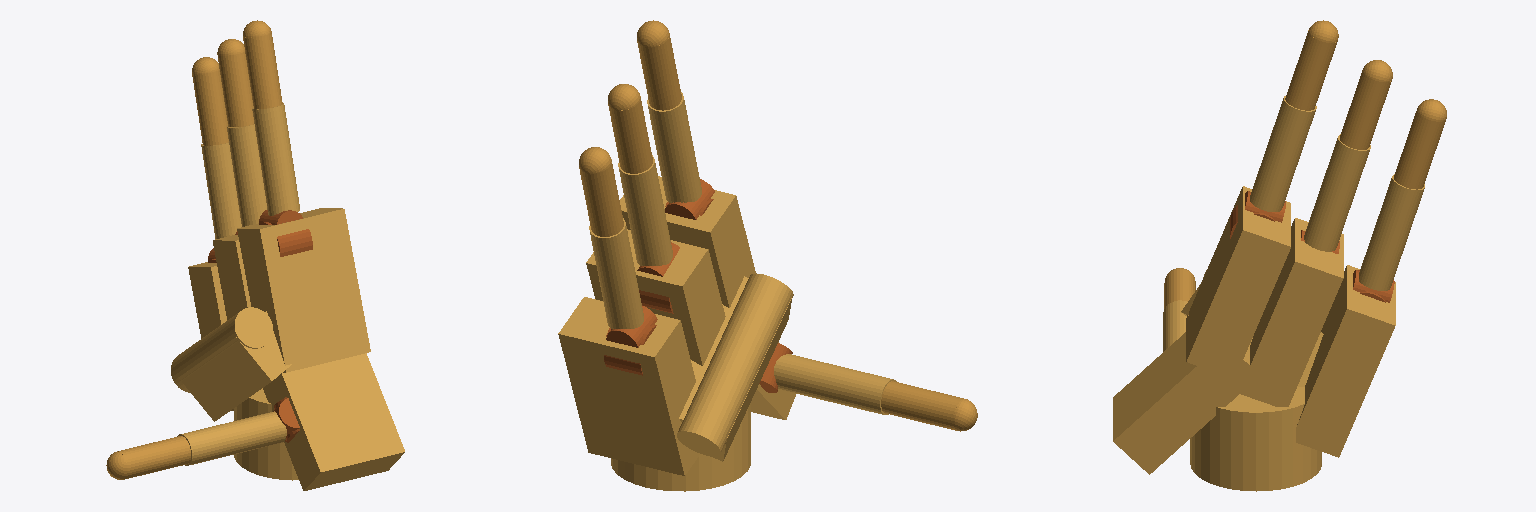
--- What the picture shows (computed from the rendered views, not written in the file) ---
3 views of the same robot in one strip: view 1: azimuth 30°, elevation 25°; view 2: azimuth 150°, elevation 25°; view 3: azimuth 270°, elevation 25° (orthographic).
Model sandia_hand_right with 41 links and 40 joints (12 revolute, 28 fixed), rooted at base, posed every joint at zero.
Links seen in each view (by area): view 1: right_palm, right_f0_1, right_f3_1, right_f1_1, right_f2_1, right_f0_2, right_f3_2, right_f2_2, right_f1_2, right_f0_0, right_f3_0; view 2: right_palm, right_f3_1, right_f2_1, right_f1_1, right_f0_1, right_f3_2, right_f1_2, right_f2_2, right_f0_2, right_f2_0, right_f0_0, right_f1_0 (+1 smaller); view 3: right_palm, right_f1_1, right_f2_1, right_f0_1, right_f1_2, right_f2_2, right_f0_2, right_f3_2, right_f3_1, right_f0_0.
Boxes of the visible links, x1=… form: right_palm: x1=171, y1=208, x2=404, y2=490; right_f0_1: x1=252, y1=102, x2=299, y2=215; right_f3_1: x1=177, y1=411, x2=286, y2=465; right_f1_1: x1=227, y1=124, x2=266, y2=226; right_f2_1: x1=201, y1=142, x2=241, y2=238; right_f0_2: x1=243, y1=20, x2=282, y2=108; right_f3_2: x1=106, y1=436, x2=190, y2=479; right_f2_2: x1=192, y1=57, x2=228, y2=145; right_f1_2: x1=217, y1=39, x2=253, y2=126; right_f0_0: x1=259, y1=210, x2=312, y2=256; right_f3_0: x1=273, y1=397, x2=299, y2=442; right_palm: x1=558, y1=176, x2=795, y2=491; right_f3_1: x1=774, y1=354, x2=896, y2=414; right_f2_1: x1=589, y1=218, x2=643, y2=328; right_f1_1: x1=618, y1=155, x2=672, y2=265; right_f0_1: x1=647, y1=92, x2=701, y2=202; right_f3_2: x1=881, y1=381, x2=977, y2=431; right_f1_2: x1=608, y1=84, x2=652, y2=173; right_f2_2: x1=579, y1=147, x2=623, y2=236; right_f0_2: x1=637, y1=20, x2=681, y2=110; right_f2_0: x1=604, y1=306, x2=657, y2=375; right_f0_0: x1=665, y1=179, x2=714, y2=219; right_f1_0: x1=637, y1=242, x2=679, y2=313; right_palm: x1=1113, y1=186, x2=1395, y2=491; right_f1_1: x1=1304, y1=134, x2=1370, y2=251; right_f2_1: x1=1359, y1=174, x2=1424, y2=290; right_f0_1: x1=1250, y1=96, x2=1316, y2=211; right_f1_2: x1=1340, y1=60, x2=1392, y2=149; right_f2_2: x1=1394, y1=99, x2=1446, y2=189; right_f0_2: x1=1285, y1=20, x2=1338, y2=110; right_f3_2: x1=1164, y1=268, x2=1195, y2=308; right_f3_1: x1=1163, y1=300, x2=1187, y2=351; right_f0_0: x1=1230, y1=191, x2=1285, y2=238.
Bounding box of the posed robot: 0.196 × 0.1924 × 0.2782 m (x, y, z).
Geometry: primitives only (box / cylinder / sphere), no mesh files.

The robot description file, URDF, robot "sandia_hand_right":
<?xml version="1.0" ?>
<!-- =================================================================================== -->
<!-- |    This document was autogenerated by xacro from sandia_hand_drake_right.urdf.xacro | -->
<!-- |    EDITING THIS FILE BY HAND IS NOT RECOMMENDED                                 | -->
<!-- =================================================================================== -->
<robot name="sandia_hand_right" xmlns:controller="http://playerstage.sourceforge.net/gazebo/xmlschema/#controller" xmlns:interface="http://playerstage.sourceforge.net/gazebo/xmlschema/#interface" xmlns:sensor="http://playerstage.sourceforge.net/gazebo/xmlschema/#sensor" xmlns:xacro="http://www.ros.org/wiki/xacro">
  <!--  derived from /usr/share/sandia-hand-5.1/ros/sandia_hand_description/robots/sandia_hand_right_on_box.urdf.xacro-->
  <!-- Commenting out urdf with meshes, using simple collision shapes instead -->
  <!--<include filename="$(find mit_drcsim_scripts)/models/mit_robot_hands/drake_urdfs/xacro/sandia_hand_drake.urdf.xacro" />-->
  <link name="base">
    <inertial>
      <mass value="0.001"/>
      <origin rpy="0 0 0" xyz="0 0 0.25"/>
      <inertia ixx="0.000001" ixy="0" ixz="0" iyy="0.000001" iyz="0" izz="0.000001"/>
    </inertial>
    <!--   <visual>
        <origin xyz="0 0 0.25" rpy="0 0 0" />
        <geometry>
            <box size="0.5 0.5 0.5" />
        </geometry>
    </visual>
    <collision>
        <origin xyz="0 0 0.25" rpy="0 0 0" />
        <geometry>
            <box size="0.5 0.5 0.5" />
        </geometry>
    </collision> -->
  </link>
  <link name="right_palm">
    <origin rpy="0 0 0" xyz="0 0 0"/>
    <inertial>
      <mass value="1.303"/>
      <origin xyz="0 0 0"/>
      <!-- solid sphere with 5cm radius -->
      <inertia ixx="0.001303" ixy="0" ixz="0" iyy="0.001303" iyz="0" izz="0.001303"/>
    </inertial>
    <!-- begin simple shape approximation of palm -->
    <!-- <collision group="default">
        <origin xyz="0.069 ${0.016 * reflect} 0.038" rpy="0 ${M_pi/2} ${-0.9 * reflect}"/>
        <geometry>
          <cylinder radius="0.013" length="0.100" />
        </geometry>
      </collision> -->
    <!-- <collision group="other">
        <origin xyz="0.064 ${0.008 * reflect} 0.021" rpy="0.41 0 ${-0.9 * reflect}"/>
        <geometry>
          <box size="0.09 .035 .05" />
        </geometry>
      </collision> -->
    <!-- <collision group="other">
        <origin xyz="0.02 0 -0.005" rpy="0 ${M_pi/2} 0"/>
        <geometry>
          <cylinder radius="0.038" length="0.05" />
        </geometry>
      </collision> -->
    <!-- <collision group="other">
        <origin xyz="0.11 ${-0.01*reflect} -0.005" rpy="0 0 ${0.37*reflect}"/>
        <geometry>
          <box size="0.09 .03 .06" />
        </geometry>
      </collision> -->
    <!-- <collision group="other">
        <origin xyz="0.09 ${0.02*reflect} -0.005" rpy="0 0 ${0.37*reflect}"/>
        <geometry>
          <box size="0.09 .03 .06" />
        </geometry>
      </collision> -->
    <!--<collision group="other">
        <origin xyz="0.060 ${0.050*reflect} -0.005" rpy="0 0 ${0.37*reflect}"/>
        <geometry>
          <box size="0.09 .03 .06" />
        </geometry>
      </collision> -->
    <!-- <collision group="other">
        <origin xyz="0.044 ${-0.04*reflect} -0.005" rpy="0 0 ${0.79*reflect}"/>
        <geometry>
          <box size="0.09 .03 .06" />
        </geometry>
      </collision>-->
    <!--   end simple shape approximation of palm -->
    <!-- begin visual shape approximation of palm -->
    <visual>
      <origin rpy="0 1.57079632679 -0.9" xyz="0.069 0.016 0.038"/>
      <geometry>
        <cylinder length="0.100" radius="0.013"/>
      </geometry>
      <material name="right_sandia_hand_skin">
        <color rgba="0.835 0.655 0.345 1.0"/>
      </material>
    </visual>
    <visual>
      <origin rpy="0.41 0 -0.9" xyz="0.064 0.008 0.021"/>
      <geometry>
        <box size="0.09 .035 .05"/>
      </geometry>
      <material name="right_sandia_hand_skin">
        <color rgba="0.835 0.655 0.345 1.0"/>
      </material>
    </visual>
    <visual>
      <origin rpy="0 1.57079632679 0" xyz="0.02 0 -0.005"/>
      <geometry>
        <cylinder length="0.05" radius="0.038"/>
      </geometry>
      <material name="right_sandia_hand_skin">
        <color rgba="0.835 0.655 0.345 1.0"/>
      </material>
    </visual>
    <visual>
      <origin rpy="0 0 0.37" xyz="0.11 -0.01 -0.005"/>
      <geometry>
        <box size="0.09 .03 .06"/>
      </geometry>
      <material name="right_sandia_hand_skin">
        <color rgba="0.835 0.655 0.345 1.0"/>
      </material>
    </visual>
    <visual>
      <origin rpy="0 0 0.37" xyz="0.09 0.02 -0.005"/>
      <geometry>
        <box size="0.09 .03 .06"/>
      </geometry>
      <material name="right_sandia_hand_skin">
        <color rgba="0.835 0.655 0.345 1.0"/>
      </material>
    </visual>
    <visual>
      <origin rpy="0 0 0.37" xyz="0.060 0.05 -0.005"/>
      <geometry>
        <box size="0.09 .03 .06"/>
      </geometry>
      <material name="right_sandia_hand_skin">
        <color rgba="0.835 0.655 0.345 1.0"/>
      </material>
    </visual>
    <visual>
      <origin rpy="0 0 0.79" xyz="0.044 -0.04 -0.005"/>
      <geometry>
        <box size="0.09 .03 .06"/>
      </geometry>
      <material name="right_sandia_hand_skin">
        <color rgba="0.835 0.655 0.345 1.0"/>
      </material>
    </visual>
    <!--   end visual shape approximation of palm -->
    <!-- begin collision mesh of f2 ->
      <collision group="default">
        <origin xyz="0 0 0" rpy="0 0 0"/>
        <geometry>
          <mesh filename="package://sandia_hand_description/meshes/palm.stl"/>
        </geometry>
      </collision>
      <!-   end collision mesh of f2 -->
    <!-- begin visual mesh of f2    ->
      <visual>
        <origin xyz="0 0 0" rpy="0 0 0"/>
        <geometry>
          <mesh filename="package://sandia_hand_description/meshes/palm.stl"/>
        </geometry>
        <material name="${side}_sandia_hand_skin">
          <color rgba="0.835 0.655 0.345 1.0"/>
        </material>
      </visual>
      <!-   end visual mesh of f2 -->
  </link>
  <joint name="right_sandia_hand_joint" type="fixed">
    <parent link="base"/>
    <child link="right_palm"/>
    <origin rpy="0 -1.57079 0" xyz="0 0 0.0"/>
  </joint>
  <link name="right_f0_base">
    <origin rpy="0 0 0" xyz="0 0 0"/>
    <inertial>
      <!-- total mass is 2.303 kg, palm is about 1.303 kg, distribute the rest into _base -->
      <mass value="0.250"/>
      <!-- (2.303 - 1.303) / 4 -->
      <origin xyz="0 0 0"/>
      <!-- model as sphere with radius of 1cm -->
      <inertia ixx="0.00001" ixy="0" ixz="0" iyy="0.00001" iyz="0" izz="0.00001"/>
    </inertial>
  </link>
  <link name="right_f0_fixed_accel">
    <origin rpy="0 0 0" xyz="0 0 0"/>
    <inertial>
      <mass value="0.01"/>
      <origin xyz="0 0 0"/>
      <inertia ixx="0.000001" ixy="0" ixz="0" iyy="0.000001" iyz="0" izz="0.000001"/>
    </inertial>
    <!-- ############ MIT ADDITION ############ -->
    <collision>
      <origin rpy="0 0 0" xyz="0 0 0.05"/>
      <geometry>
        <sphere radius="0"/>
      </geometry>
    </collision>
    <!-- ############    END     ############ -->
  </link>
  <link name="right_f0_0">
    <origin rpy="0 0 0" xyz="0 0 0"/>
    <inertial>
      <mass value="0.106"/>
      <!-- F1 -->
      <origin xyz="0 0 0"/>
      <!-- solid cylinder -->
      <inertia ixx="0.000011925" ixy="0" ixz="0" iyy="0.00011505" iyz="0" izz="0.00011505"/>
    </inertial>
    <!-- begin simple shape approximation of f0 -->
    <!-- <collision group="default">
        <origin xyz="0 0 0.003" rpy="0 0 0"/>
        <geometry>
          <cylinder radius="0.015" length="0.023" />
        </geometry>
      </collision> -->
    <!-- <collision group="other">
        <origin xyz="0.011 0 0.003" rpy="${M_pi/2} 0 0"/>
        <geometry>
          <cylinder radius="0.01" length="0.023" />
        </geometry>
      </collision> -->
    <!--   end simple shape approximation of f0 -->
    <!-- begin visual shape approximation of f0 -->
    <visual>
      <origin rpy="0 0 0" xyz="0 0 0.003"/>
      <geometry>
        <cylinder length="0.023" radius="0.015"/>
      </geometry>
      <material name="right_sandia_hand_skin_suntan">
        <color rgba="0.7 0.4 0.2 1.0"/>
      </material>
    </visual>
    <visual>
      <origin rpy="1.57079632679 0 0" xyz="0.011 0 0.003"/>
      <geometry>
        <cylinder length="0.023" radius="0.01"/>
      </geometry>
      <material name="right_sandia_hand_skin_suntan">
        <color rgba="0.7 0.4 0.2 1.0"/>
      </material>
    </visual>
    <!--   end visual shape approximation of f0 -->
    <!-- begin collision mesh of f0 ->
      <collision group="default">
        <origin xyz="0 0 0" rpy="0 0 0"/>
        <geometry>
          <mesh filename="package://sandia_hand_description/meshes/f0.stl"/>
        </geometry>
      </collision>
      <!-   end collision mesh of f0 -->
    <!-- begin visual mesh of f0 ->
      <visual>
        <origin xyz="0 0 0" rpy="0 0 0"/>
        <geometry>
          <mesh filename="package://sandia_hand_description/meshes/f0.stl"/>
        </geometry>
        <material name="${side}_sandia_hand_skin_suntan">
          <color rgba="0.7 0.4 0.2 1.0"/>
        </material>
      </visual>
      <!-   end visual mesh of f0 -->
  </link>
  <link name="right_f0_1">
    <origin rpy="0 0 0" xyz="0 0 0"/>
    <inertial>
      <mass value="0.033"/>
      <!-- F2 -->
      <origin xyz="0 0 0"/>
      <!-- solid cylinder -->
      <inertia ixx="0.00000165" ixy="0" ixz="0" iyy="0.00001316975" iyz="0" izz="0.00001316975"/>
    </inertial>
    <!-- begin simple shape approximation of f1 -->
    <!-- <collision group="default">
        <origin xyz="0.024 0 0" rpy="0 ${M_pi/2} 0"/>
        <geometry>
          <cylinder radius="0.01" length="0.067" />
        </geometry>
      </collision> -->
    <!--   end simple shape approximation of f1 -->
    <!-- begin visual shape approximation of f1 -->
    <visual>
      <origin rpy="0 1.57079632679 0" xyz="0.024 0 0"/>
      <geometry>
        <cylinder length="0.067" radius="0.01"/>
      </geometry>
      <material name="right_sandia_hand_skin">
        <color rgba="0.835 0.655 0.345 1.0"/>
      </material>
    </visual>
    <!--   end visual shape approximation of f1 -->
    <!-- begin collision mesh of f1 ->
      <collision group="default">
        <origin xyz="0 0 0" rpy="0 0 0"/>
        <geometry>
          <mesh filename="package://sandia_hand_description/meshes/f1.stl"/>
        </geometry>
      </collision>
      <!-   end collision mesh of f1 -->
    <!-- begin visual mesh of f1 ->
      <visual>
        <origin xyz="0 0 0" rpy="0 0 0"/>
        <geometry>
          <mesh filename="package://sandia_hand_description/meshes/f1.stl"/>
        </geometry>
        <material name="${side}_sandia_hand_skin">
          <color rgba="0.835 0.655 0.345 1.0"/>
        </material>
      </visual>
      <!-   end visual mesh of f1 -->
  </link>
  <link name="right_f0_1_accel">
    <origin rpy="0 0 0" xyz="0 0 0"/>
    <inertial>
      <mass value="0.01"/>
      <origin xyz="0 0 0"/>
      <inertia ixx="0.000001" ixy="0" ixz="0" iyy="0.000001" iyz="0" izz="0.000001"/>
    </inertial>
    <!-- ############ MIT ADDITION ############ -->
    <!--      <collision>-->
    <!--        <origin rpy="0 0 0" xyz="0 0 0.01"/>-->
    <!--        <geometry>-->
    <!--          <sphere radius="0"/>-->
    <!--        </geometry>-->
    <!--      </collision>  -->
    <!-- ############    END     ############ -->
  </link>
  <link name="right_f0_2">
    <origin rpy="0 0 0" xyz="0 0 0"/>
    <inertial>
      <mass value="0.033"/>
      <!-- F3 -->
      <origin xyz="0 0 0"/>
      <!-- solid cylinder -->
      <inertia ixx="0.0000013365" ixy="0" ixz="0" iyy="0.000009603" iyz="0" izz="0.000009603"/>
    </inertial>
    <!-- begin simple shape approximation of f2 -->
    <!-- <collision group="default">
        <origin xyz="0.024 0 0" rpy="0 ${M_pi/2} 0"/>
        <geometry>
          <cylinder radius="0.009" length="0.057" />
        </geometry>
      </collision> -->
    <!-- <collision group="other">
        <origin xyz="0.052 0 0" rpy="0 0 0"/>
        <geometry>
          <sphere radius="0.009" />
        </geometry>
      </collision> -->
    <!--   end simple shape approximation of f2 -->
    <!-- begin visual shape approximation of f2 -->
    <visual>
      <origin rpy="0 1.57079632679 0" xyz="0.024 0 0"/>
      <geometry>
        <cylinder length="0.057" radius="0.009"/>
      </geometry>
      <material name="right_sandia_hand_skin_suntan">
        <color rgba="0.8 0.6 0.3 1.0"/>
      </material>
    </visual>
    <visual>
      <origin rpy="0 0 0" xyz="0.052 0 0"/>
      <geometry>
        <sphere radius="0.009"/>
      </geometry>
      <material name="right_sandia_hand_skin_suntan">
        <color rgba="0.8 0.6 0.3 1.0"/>
      </material>
    </visual>
    <!-- begin collision mesh of f2    ->
      <collision group="default">
        <origin xyz="0 0 0" rpy="0 0 0"/>
        <geometry>
          <mesh filename="package://sandia_hand_description/meshes/f2.stl"/>
        </geometry>
      </collision>
      <!-   end collision mesh of f2 -->
    <!-- begin visual mesh of f2    ->
      <visual>
        <origin xyz="0 0 0" rpy="0 0 0"/>
        <geometry>
          <mesh filename="package://sandia_hand_description/meshes/f2.stl"/>
        </geometry>
        <material name="${side}_sandia_hand_skin_suntan">
          <color rgba="0.8 0.6 0.3 1.0"/>
        </material>
      </visual>
      <!-   end visual mesh of f2 -->
  </link>
  <link name="right_f0_2_accel">
    <origin rpy="0 0 0" xyz="0 0 0"/>
    <inertial>
      <mass value="0.01"/>
      <origin xyz="0 0 0"/>
      <inertia ixx="0.000001" ixy="0" ixz="0" iyy="0.000001" iyz="0" izz="0.000001"/>
    </inertial>
    <!-- ############ MIT ADDITION ############ -->
    <collision>
      <origin rpy="0 0 0" xyz="0 0 0.01"/>
      <geometry>
        <sphere radius="0"/>
      </geometry>
    </collision>
    <!-- ############    END     ############ -->
  </link>
  <link name="right_f0_2_accel_dummy1">
    <origin rpy="0 0 0" xyz="0 0 0"/>
    <inertial>
      <mass value="0.001"/>
      <origin xyz="0 0 0"/>
      <inertia ixx="0.01" ixy="0" ixz="0" iyy="0.01" iyz="0" izz="0.01"/>
    </inertial>
    <collision>
      <origin rpy="0 0 0" xyz="-0.02 0.0 0.01"/>
      <geometry>
        <sphere radius="0"/>
      </geometry>
    </collision>
  </link>
  <joint name="right_f0_2_accel_dummy1" type="fixed">
    <parent link="right_f0_2"/>
    <child link="right_f0_2_accel_dummy1"/>
    <origin rpy="-1.57079632679 0 0" xyz="0.04 0 0"/>
  </joint>
  <link name="right_f0_2_accel_dummy2">
    <origin rpy="0 0 0" xyz="0 0 0"/>
    <inertial>
      <mass value="0.001"/>
      <origin xyz="0 0 0"/>
      <inertia ixx="0.01" ixy="0" ixz="0" iyy="0.01" iyz="0" izz="0.01"/>
    </inertial>
    <collision>
      <origin rpy="0 0 0" xyz="0.0 0.0 -0.01"/>
      <geometry>
        <sphere radius="0"/>
      </geometry>
    </collision>
  </link>
  <joint name="right_f0_2_accel_dummy2" type="fixed">
    <parent link="right_f0_2"/>
    <child link="right_f0_2_accel_dummy2"/>
    <origin rpy="-1.57079632679 0 0" xyz="0.04 0 0"/>
  </joint>
  <joint name="right_f0_base" type="fixed">
    <parent link="right_palm"/>
    <child link="right_f0_base"/>
    <origin rpy="0 0 0.3" xyz="0.14 0.0 0"/>
  </joint>
  <joint name="right_f0_j1" type="revolute">
    <axis xyz="0 0 1"/>
    <parent link="right_f0_0"/>
    <child link="right_f0_1"/>
    <limit effort="1" lower="-1.57079632679" upper="1.57079632679" velocity="1"/>
    <safety_controller k_position="1000.0" k_velocity="1000.0" soft_lower_limit="-11.57079" soft_upper_limit="11.57079"/>
    <dynamics damping="0.2"/>
    <origin rpy="1.57079632679 0 0" xyz="0.028 0 0"/>
  </joint>
  <joint name="right_f0_j2" type="revolute">
    <axis xyz="0 0 1"/>
    <parent link="right_f0_1"/>
    <child link="right_f0_2"/>
    <origin rpy="0 0 0" xyz="0.05 0 0"/>
    <safety_controller k_position="1000.0" k_velocity="1000.0" soft_lower_limit="-11.57079" soft_upper_limit="11.57079"/>
    <dynamics damping="0.2"/>
    <limit effort="1" lower="-1.57079632679" upper="1.57079632679" velocity="1"/>
  </joint>
  <joint name="right_f0_fixed_accel" type="fixed">
    <parent link="right_f0_base"/>
    <child link="right_f0_fixed_accel"/>
    <origin rpy="0 0 0" xyz="-0.05 0 0"/>
  </joint>
  <joint name="right_f0_1_accel" type="fixed">
    <parent link="right_f0_1"/>
    <child link="right_f0_1_accel"/>
    <origin rpy="-1.57079632679 0 0" xyz="0.03 0 0"/>
  </joint>
  <joint name="right_f0_2_accel" type="fixed">
    <parent link="right_f0_2"/>
    <child link="right_f0_2_accel"/>
    <origin rpy="-1.57079632679 0 0" xyz="0.04 0 0"/>
  </joint>
  <link name="right_f0_knuckle_dummy_contact">
    <origin rpy="0 0 0" xyz="0 0 0"/>
    <inertial>
      <mass value="0.001"/>
      <origin xyz="0 0 0"/>
      <inertia ixx="0.001" ixy="0" ixz="0" iyy="0.001" iyz="0" izz="0.001"/>
    </inertial>
    <collision>
      <origin rpy="0 0 0" xyz="0.058 0 0.034"/>
      <!--TODO: THERE IS A ERROR HERE: xyz needs to be "0.058 0 0.034" instead of "0.1 0 0.05"-->
      <geometry>
        <sphere radius="0"/>
      </geometry>
    </collision>
  </link>
  <joint name="right_f0_knuckle_dummy_contact" type="fixed">
    <parent link="right_f0_base"/>
    <child link="right_f0_knuckle_dummy_contact"/>
    <origin rpy="0 0 0" xyz="-0.05 0 0"/>
  </joint>
  <transmission name="right_f0_j0" type="pr2_mechanism_model/SimpleTransmission">
    <joint name="right_f0_j0"/>
    <actuator name="right_f0_j0_motor"/>
    <mechanicalReduction>1</mechanicalReduction>
  </transmission>
  <transmission name="right_f0_j1" type="pr2_mechanism_model/SimpleTransmission">
    <joint name="right_f0_j1"/>
    <actuator name="right_f0_j1_motor"/>
    <mechanicalReduction>1</mechanicalReduction>
  </transmission>
  <transmission name="right_f0_j2" type="pr2_mechanism_model/SimpleTransmission">
    <joint name="right_f0_j2"/>
    <actuator name="right_f0_j2_motor"/>
    <mechanicalReduction>1</mechanicalReduction>
  </transmission>
  <link name="right_f1_base">
    <origin rpy="0 0 0" xyz="0 0 0"/>
    <inertial>
      <!-- total mass is 2.303 kg, palm is about 1.303 kg, distribute the rest into _base -->
      <mass value="0.250"/>
      <!-- (2.303 - 1.303) / 4 -->
      <origin xyz="0 0 0"/>
      <!-- model as sphere with radius of 1cm -->
      <inertia ixx="0.00001" ixy="0" ixz="0" iyy="0.00001" iyz="0" izz="0.00001"/>
    </inertial>
  </link>
  <link name="right_f1_fixed_accel">
    <origin rpy="0 0 0" xyz="0 0 0"/>
    <inertial>
      <mass value="0.01"/>
      <origin xyz="0 0 0"/>
      <inertia ixx="0.000001" ixy="0" ixz="0" iyy="0.000001" iyz="0" izz="0.000001"/>
    </inertial>
    <!-- ############ MIT ADDITION ############ -->
    <collision>
      <origin rpy="0 0 0" xyz="0 0 0.05"/>
      <geometry>
        <sphere radius="0"/>
      </geometry>
    </collision>
    <!-- ############    END     ############ -->
  </link>
  <link name="right_f1_0">
    <origin rpy="0 0 0" xyz="0 0 0"/>
    <inertial>
      <mass value="0.106"/>
      <!-- F1 -->
      <origin xyz="0 0 0"/>
      <!-- solid cylinder -->
      <inertia ixx="0.000011925" ixy="0" ixz="0" iyy="0.00011505" iyz="0" izz="0.00011505"/>
    </inertial>
    <!-- begin simple shape approximation of f0 -->
    <!-- <collision group="default">
        <origin xyz="0 0 0.003" rpy="0 0 0"/>
        <geometry>
          <cylinder radius="0.015" length="0.023" />
        </geometry>
      </collision> -->
    <!-- <collision group="other">
        <origin xyz="0.011 0 0.003" rpy="${M_pi/2} 0 0"/>
        <geometry>
          <cylinder radius="0.01" length="0.023" />
        </geometry>
      </collision> -->
    <!--   end simple shape approximation of f0 -->
    <!-- begin visual shape approximation of f0 -->
    <visual>
      <origin rpy="0 0 0" xyz="0 0 0.003"/>
      <geometry>
        <cylinder length="0.023" radius="0.015"/>
      </geometry>
      <material name="right_sandia_hand_skin_suntan">
        <color rgba="0.7 0.4 0.2 1.0"/>
      </material>
    </visual>
    <visual>
      <origin rpy="1.57079632679 0 0" xyz="0.011 0 0.003"/>
      <geometry>
        <cylinder length="0.023" radius="0.01"/>
      </geometry>
      <material name="right_sandia_hand_skin_suntan">
        <color rgba="0.7 0.4 0.2 1.0"/>
      </material>
    </visual>
    <!--   end visual shape approximation of f0 -->
    <!-- begin collision mesh of f0 ->
      <collision group="default">
        <origin xyz="0 0 0" rpy="0 0 0"/>
        <geometry>
          <mesh filename="package://sandia_hand_description/meshes/f0.stl"/>
        </geometry>
      </collision>
      <!-   end collision mesh of f0 -->
    <!-- begin visual mesh of f0 ->
      <visual>
        <origin xyz="0 0 0" rpy="0 0 0"/>
        <geometry>
          <mesh filename="package://sandia_hand_description/meshes/f0.stl"/>
        </geometry>
        <material name="${side}_sandia_hand_skin_suntan">
          <color rgba="0.7 0.4 0.2 1.0"/>
        </material>
      </visual>
      <!-   end visual mesh of f0 -->
  </link>
  <link name="right_f1_1">
    <origin rpy="0 0 0" xyz="0 0 0"/>
    <inertial>
      <mass value="0.033"/>
      <!-- F2 -->
      <origin xyz="0 0 0"/>
      <!-- solid cylinder -->
      <inertia ixx="0.00000165" ixy="0" ixz="0" iyy="0.00001316975" iyz="0" izz="0.00001316975"/>
    </inertial>
    <!-- begin simple shape approximation of f1 -->
    <!-- <collision group="default">
        <origin xyz="0.024 0 0" rpy="0 ${M_pi/2} 0"/>
        <geometry>
          <cylinder radius="0.01" length="0.067" />
        </geometry>
      </collision> -->
    <!--   end simple shape approximation of f1 -->
    <!-- begin visual shape approximation of f1 -->
    <visual>
      <origin rpy="0 1.57079632679 0" xyz="0.024 0 0"/>
      <geometry>
        <cylinder length="0.067" radius="0.01"/>
      </geometry>
      <material name="right_sandia_hand_skin">
        <color rgba="0.835 0.655 0.345 1.0"/>
      </material>
    </visual>
    <!--   end visual shape approximation of f1 -->
    <!-- begin collision mesh of f1 ->
      <collision group="default">
        <origin xyz="0 0 0" rpy="0 0 0"/>
        <geometry>
          <mesh filename="package://sandia_hand_description/meshes/f1.stl"/>
        </geometry>
      </collision>
      <!-   end collision mesh of f1 -->
    <!-- begin visual mesh of f1 ->
      <visual>
        <origin xyz="0 0 0" rpy="0 0 0"/>
        <geometry>
          <mesh filename="package://sandia_hand_description/meshes/f1.stl"/>
        </geometry>
        <material name="${side}_sandia_hand_skin">
          <color rgba="0.835 0.655 0.345 1.0"/>
        </material>
      </visual>
      <!-   end visual mesh of f1 -->
  </link>
  <link name="right_f1_1_accel">
    <origin rpy="0 0 0" xyz="0 0 0"/>
    <inertial>
      <mass value="0.01"/>
      <origin xyz="0 0 0"/>
      <inertia ixx="0.000001" ixy="0" ixz="0" iyy="0.000001" iyz="0" izz="0.000001"/>
    </inertial>
    <!-- ############ MIT ADDITION ############ -->
    <!--      <collision>-->
    <!--        <origin rpy="0 0 0" xyz="0 0 0.01"/>-->
    <!--        <geometry>-->
    <!--          <sphere radius="0"/>-->
    <!--        </geometry>-->
    <!--      </collision>  -->
    <!-- ############    END     ############ -->
  </link>
  <link name="right_f1_2">
    <origin rpy="0 0 0" xyz="0 0 0"/>
    <inertial>
      <mass value="0.033"/>
      <!-- F3 -->
      <origin xyz="0 0 0"/>
      <!-- solid cylinder -->
      <inertia ixx="0.0000013365" ixy="0" ixz="0" iyy="0.000009603" iyz="0" izz="0.000009603"/>
    </inertial>
    <!-- begin simple shape approximation of f2 -->
    <!-- <collision group="default">
        <origin xyz="0.024 0 0" rpy="0 ${M_pi/2} 0"/>
        <geometry>
          <cylinder radius="0.009" length="0.057" />
        </geometry>
      </collision> -->
    <!-- <collision group="other">
        <origin xyz="0.052 0 0" rpy="0 0 0"/>
        <geometry>
          <sphere radius="0.009" />
        </geometry>
      </collision> -->
    <!--   end simple shape approximation of f2 -->
    <!-- begin visual shape approximation of f2 -->
    <visual>
      <origin rpy="0 1.57079632679 0" xyz="0.024 0 0"/>
      <geometry>
        <cylinder length="0.057" radius="0.009"/>
      </geometry>
      <material name="right_sandia_hand_skin_suntan">
        <color rgba="0.8 0.6 0.3 1.0"/>
      </material>
    </visual>
    <visual>
      <origin rpy="0 0 0" xyz="0.052 0 0"/>
      <geometry>
        <sphere radius="0.009"/>
      </geometry>
      <material name="right_sandia_hand_skin_suntan">
        <color rgba="0.8 0.6 0.3 1.0"/>
      </material>
    </visual>
    <!-- begin collision mesh of f2    ->
      <collision group="default">
        <origin xyz="0 0 0" rpy="0 0 0"/>
        <geometry>
          <mesh filename="package://sandia_hand_description/meshes/f2.stl"/>
        </geometry>
      </collision>
      <!-   end collision mesh of f2 -->
    <!-- begin visual mesh of f2    ->
      <visual>
        <origin xyz="0 0 0" rpy="0 0 0"/>
        <geometry>
          <mesh filename="package://sandia_hand_description/meshes/f2.stl"/>
        </geometry>
        <material name="${side}_sandia_hand_skin_suntan">
          <color rgba="0.8 0.6 0.3 1.0"/>
        </material>
      </visual>
      <!-   end visual mesh of f2 -->
  </link>
  <link name="right_f1_2_accel">
    <origin rpy="0 0 0" xyz="0 0 0"/>
    <inertial>
      <mass value="0.01"/>
      <origin xyz="0 0 0"/>
      <inertia ixx="0.000001" ixy="0" ixz="0" iyy="0.000001" iyz="0" izz="0.000001"/>
    </inertial>
    <!-- ############ MIT ADDITION ############ -->
    <collision>
      <origin rpy="0 0 0" xyz="0 0 0.01"/>
      <geometry>
        <sphere radius="0"/>
      </geometry>
    </collision>
    <!-- ############    END     ############ -->
  </link>
  <link name="right_f1_2_accel_dummy1">
    <origin rpy="0 0 0" xyz="0 0 0"/>
    <inertial>
      <mass value="0.001"/>
      <origin xyz="0 0 0"/>
      <inertia ixx="0.01" ixy="0" ixz="0" iyy="0.01" iyz="0" izz="0.01"/>
    </inertial>
    <collision>
      <origin rpy="0 0 0" xyz="-0.02 0.0 0.01"/>
      <geometry>
        <sphere radius="0"/>
      </geometry>
    </collision>
  </link>
  <joint name="right_f1_2_accel_dummy1" type="fixed">
    <parent link="right_f1_2"/>
    <child link="right_f1_2_accel_dummy1"/>
    <origin rpy="-1.57079632679 0 0" xyz="0.04 0 0"/>
  </joint>
  <link name="right_f1_2_accel_dummy2">
    <origin rpy="0 0 0" xyz="0 0 0"/>
    <inertial>
      <mass value="0.001"/>
      <origin xyz="0 0 0"/>
      <inertia ixx="0.01" ixy="0" ixz="0" iyy="0.01" iyz="0" izz="0.01"/>
    </inertial>
    <collision>
      <origin rpy="0 0 0" xyz="0.0 0.0 -0.01"/>
      <geometry>
        <sphere radius="0"/>
      </geometry>
    </collision>
  </link>
  <joint name="right_f1_2_accel_dummy2" type="fixed">
    <parent link="right_f1_2"/>
    <child link="right_f1_2_accel_dummy2"/>
    <origin rpy="-1.57079632679 0 0" xyz="0.04 0 0"/>
  </joint>
  <joint name="right_f1_base" type="fixed">
    <parent link="right_palm"/>
    <child link="right_f1_base"/>
    <origin rpy="0 0 0.3" xyz="0.115 0.03122 0"/>
  </joint>
  <joint name="right_f1_j1" type="revolute">
    <axis xyz="0 0 1"/>
    <parent link="right_f1_0"/>
    <child link="right_f1_1"/>
    <limit effort="1" lower="-1.57079632679" upper="1.57079632679" velocity="1"/>
    <safety_controller k_position="1000.0" k_velocity="1000.0" soft_lower_limit="-11.57079" soft_upper_limit="11.57079"/>
    <dynamics damping="0.2"/>
    <origin rpy="1.57079632679 0 0" xyz="0.028 0 0"/>
  </joint>
  <joint name="right_f1_j2" type="revolute">
    <axis xyz="0 0 1"/>
    <parent link="right_f1_1"/>
    <child link="right_f1_2"/>
    <origin rpy="0 0 0" xyz="0.05 0 0"/>
    <safety_controller k_position="1000.0" k_velocity="1000.0" soft_lower_limit="-11.57079" soft_upper_limit="11.57079"/>
    <dynamics damping="0.2"/>
    <limit effort="1" lower="-1.57079632679" upper="1.57079632679" velocity="1"/>
  </joint>
  <joint name="right_f1_fixed_accel" type="fixed">
    <parent link="right_f1_base"/>
    <child link="right_f1_fixed_accel"/>
    <origin rpy="0 0 0" xyz="-0.05 0 0"/>
  </joint>
  <joint name="right_f1_1_accel" type="fixed">
    <parent link="right_f1_1"/>
    <child link="right_f1_1_accel"/>
    <origin rpy="-1.57079632679 0 0" xyz="0.03 0 0"/>
  </joint>
  <joint name="right_f1_2_accel" type="fixed">
    <parent link="right_f1_2"/>
    <child link="right_f1_2_accel"/>
    <origin rpy="-1.57079632679 0 0" xyz="0.04 0 0"/>
  </joint>
  <link name="right_f1_knuckle_dummy_contact">
    <origin rpy="0 0 0" xyz="0 0 0"/>
    <inertial>
      <mass value="0.001"/>
      <origin xyz="0 0 0"/>
      <inertia ixx="0.001" ixy="0" ixz="0" iyy="0.001" iyz="0" izz="0.001"/>
    </inertial>
    <collision>
      <origin rpy="0 0 0" xyz="0.058 0 0.034"/>
      <!--TODO: THERE IS A ERROR HERE: xyz needs to be "0.058 0 0.034" instead of "0.1 0 0.05"-->
      <geometry>
        <sphere radius="0"/>
      </geometry>
    </collision>
  </link>
  <joint name="right_f1_knuckle_dummy_contact" type="fixed">
    <parent link="right_f1_base"/>
    <child link="right_f1_knuckle_dummy_contact"/>
    <origin rpy="0 0 0" xyz="-0.05 0 0"/>
  </joint>
  <transmission name="right_f1_j0" type="pr2_mechanism_model/SimpleTransmission">
    <joint name="right_f1_j0"/>
    <actuator name="right_f1_j0_motor"/>
    <mechanicalReduction>1</mechanicalReduction>
  </transmission>
  <transmission name="right_f1_j1" type="pr2_mechanism_model/SimpleTransmission">
    <joint name="right_f1_j1"/>
    <actuator name="right_f1_j1_motor"/>
    <mechanicalReduction>1</mechanicalReduction>
  </transmission>
  <transmission name="right_f1_j2" type="pr2_mechanism_model/SimpleTransmission">
    <joint name="right_f1_j2"/>
    <actuator name="right_f1_j2_motor"/>
    <mechanicalReduction>1</mechanicalReduction>
  </transmission>
  <link name="right_f2_base">
    <origin rpy="0 0 0" xyz="0 0 0"/>
    <inertial>
      <!-- total mass is 2.303 kg, palm is about 1.303 kg, distribute the rest into _base -->
      <mass value="0.250"/>
      <!-- (2.303 - 1.303) / 4 -->
      <origin xyz="0 0 0"/>
      <!-- model as sphere with radius of 1cm -->
      <inertia ixx="0.00001" ixy="0" ixz="0" iyy="0.00001" iyz="0" izz="0.00001"/>
    </inertial>
  </link>
  <link name="right_f2_fixed_accel">
    <origin rpy="0 0 0" xyz="0 0 0"/>
    <inertial>
      <mass value="0.01"/>
      <origin xyz="0 0 0"/>
      <inertia ixx="0.000001" ixy="0" ixz="0" iyy="0.000001" iyz="0" izz="0.000001"/>
    </inertial>
    <!-- ############ MIT ADDITION ############ -->
    <collision>
      <origin rpy="0 0 0" xyz="0 0 0.05"/>
      <geometry>
        <sphere radius="0"/>
      </geometry>
    </collision>
    <!-- ############    END     ############ -->
  </link>
  <link name="right_f2_0">
    <origin rpy="0 0 0" xyz="0 0 0"/>
    <inertial>
      <mass value="0.106"/>
      <!-- F1 -->
      <origin xyz="0 0 0"/>
      <!-- solid cylinder -->
      <inertia ixx="0.000011925" ixy="0" ixz="0" iyy="0.00011505" iyz="0" izz="0.00011505"/>
    </inertial>
    <!-- begin simple shape approximation of f0 -->
    <!-- <collision group="default">
        <origin xyz="0 0 0.003" rpy="0 0 0"/>
        <geometry>
          <cylinder radius="0.015" length="0.023" />
        </geometry>
      </collision> -->
    <!-- <collision group="other">
        <origin xyz="0.011 0 0.003" rpy="${M_pi/2} 0 0"/>
        <geometry>
          <cylinder radius="0.01" length="0.023" />
        </geometry>
      </collision> -->
    <!--   end simple shape approximation of f0 -->
    <!-- begin visual shape approximation of f0 -->
    <visual>
      <origin rpy="0 0 0" xyz="0 0 0.003"/>
      <geometry>
        <cylinder length="0.023" radius="0.015"/>
      </geometry>
      <material name="right_sandia_hand_skin_suntan">
        <color rgba="0.7 0.4 0.2 1.0"/>
      </material>
    </visual>
    <visual>
      <origin rpy="1.57079632679 0 0" xyz="0.011 0 0.003"/>
      <geometry>
        <cylinder length="0.023" radius="0.01"/>
      </geometry>
      <material name="right_sandia_hand_skin_suntan">
        <color rgba="0.7 0.4 0.2 1.0"/>
      </material>
    </visual>
    <!--   end visual shape approximation of f0 -->
    <!-- begin collision mesh of f0 ->
      <collision group="default">
        <origin xyz="0 0 0" rpy="0 0 0"/>
        <geometry>
          <mesh filename="package://sandia_hand_description/meshes/f0.stl"/>
        </geometry>
      </collision>
      <!-   end collision mesh of f0 -->
    <!-- begin visual mesh of f0 ->
      <visual>
        <origin xyz="0 0 0" rpy="0 0 0"/>
        <geometry>
          <mesh filename="package://sandia_hand_description/meshes/f0.stl"/>
        </geometry>
        <material name="${side}_sandia_hand_skin_suntan">
          <color rgba="0.7 0.4 0.2 1.0"/>
        </material>
      </visual>
      <!-   end visual mesh of f0 -->
  </link>
  <link name="right_f2_1">
    <origin rpy="0 0 0" xyz="0 0 0"/>
    <inertial>
      <mass value="0.033"/>
      <!-- F2 -->
      <origin xyz="0 0 0"/>
      <!-- solid cylinder -->
      <inertia ixx="0.00000165" ixy="0" ixz="0" iyy="0.00001316975" iyz="0" izz="0.00001316975"/>
    </inertial>
    <!-- begin simple shape approximation of f1 -->
    <!-- <collision group="default">
        <origin xyz="0.024 0 0" rpy="0 ${M_pi/2} 0"/>
        <geometry>
          <cylinder radius="0.01" length="0.067" />
        </geometry>
      </collision> -->
    <!--   end simple shape approximation of f1 -->
    <!-- begin visual shape approximation of f1 -->
    <visual>
      <origin rpy="0 1.57079632679 0" xyz="0.024 0 0"/>
      <geometry>
        <cylinder length="0.067" radius="0.01"/>
      </geometry>
      <material name="right_sandia_hand_skin">
        <color rgba="0.835 0.655 0.345 1.0"/>
      </material>
    </visual>
    <!--   end visual shape approximation of f1 -->
    <!-- begin collision mesh of f1 ->
      <collision group="default">
        <origin xyz="0 0 0" rpy="0 0 0"/>
        <geometry>
          <mesh filename="package://sandia_hand_description/meshes/f1.stl"/>
        </geometry>
      </collision>
      <!-   end collision mesh of f1 -->
    <!-- begin visual mesh of f1 ->
      <visual>
        <origin xyz="0 0 0" rpy="0 0 0"/>
        <geometry>
          <mesh filename="package://sandia_hand_description/meshes/f1.stl"/>
        </geometry>
        <material name="${side}_sandia_hand_skin">
          <color rgba="0.835 0.655 0.345 1.0"/>
        </material>
      </visual>
      <!-   end visual mesh of f1 -->
  </link>
  <link name="right_f2_1_accel">
    <origin rpy="0 0 0" xyz="0 0 0"/>
    <inertial>
      <mass value="0.01"/>
      <origin xyz="0 0 0"/>
      <inertia ixx="0.000001" ixy="0" ixz="0" iyy="0.000001" iyz="0" izz="0.000001"/>
    </inertial>
    <!-- ############ MIT ADDITION ############ -->
    <!--      <collision>-->
    <!--        <origin rpy="0 0 0" xyz="0 0 0.01"/>-->
    <!--        <geometry>-->
    <!--          <sphere radius="0"/>-->
    <!--        </geometry>-->
    <!--      </collision>  -->
    <!-- ############    END     ############ -->
  </link>
  <link name="right_f2_2">
    <origin rpy="0 0 0" xyz="0 0 0"/>
    <inertial>
      <mass value="0.033"/>
      <!-- F3 -->
      <origin xyz="0 0 0"/>
      <!-- solid cylinder -->
      <inertia ixx="0.0000013365" ixy="0" ixz="0" iyy="0.000009603" iyz="0" izz="0.000009603"/>
    </inertial>
    <!-- begin simple shape approximation of f2 -->
    <!-- <collision group="default">
        <origin xyz="0.024 0 0" rpy="0 ${M_pi/2} 0"/>
        <geometry>
          <cylinder radius="0.009" length="0.057" />
        </geometry>
      </collision> -->
    <!-- <collision group="other">
        <origin xyz="0.052 0 0" rpy="0 0 0"/>
        <geometry>
          <sphere radius="0.009" />
        </geometry>
      </collision> -->
    <!--   end simple shape approximation of f2 -->
    <!-- begin visual shape approximation of f2 -->
    <visual>
      <origin rpy="0 1.57079632679 0" xyz="0.024 0 0"/>
      <geometry>
        <cylinder length="0.057" radius="0.009"/>
      </geometry>
      <material name="right_sandia_hand_skin_suntan">
        <color rgba="0.8 0.6 0.3 1.0"/>
      </material>
    </visual>
    <visual>
      <origin rpy="0 0 0" xyz="0.052 0 0"/>
      <geometry>
        <sphere radius="0.009"/>
      </geometry>
      <material name="right_sandia_hand_skin_suntan">
        <color rgba="0.8 0.6 0.3 1.0"/>
      </material>
    </visual>
    <!-- begin collision mesh of f2    ->
      <collision group="default">
        <origin xyz="0 0 0" rpy="0 0 0"/>
        <geometry>
          <mesh filename="package://sandia_hand_description/meshes/f2.stl"/>
        </geometry>
      </collision>
      <!-   end collision mesh of f2 -->
    <!-- begin visual mesh of f2    ->
      <visual>
        <origin xyz="0 0 0" rpy="0 0 0"/>
        <geometry>
          <mesh filename="package://sandia_hand_description/meshes/f2.stl"/>
        </geometry>
        <material name="${side}_sandia_hand_skin_suntan">
          <color rgba="0.8 0.6 0.3 1.0"/>
        </material>
      </visual>
      <!-   end visual mesh of f2 -->
  </link>
  <link name="right_f2_2_accel">
    <origin rpy="0 0 0" xyz="0 0 0"/>
    <inertial>
      <mass value="0.01"/>
      <origin xyz="0 0 0"/>
      <inertia ixx="0.000001" ixy="0" ixz="0" iyy="0.000001" iyz="0" izz="0.000001"/>
    </inertial>
    <!-- ############ MIT ADDITION ############ -->
    <collision>
      <origin rpy="0 0 0" xyz="0 0 0.01"/>
      <geometry>
        <sphere radius="0"/>
      </geometry>
    </collision>
    <!-- ############    END     ############ -->
  </link>
  <link name="right_f2_2_accel_dummy1">
    <origin rpy="0 0 0" xyz="0 0 0"/>
    <inertial>
      <mass value="0.001"/>
      <origin xyz="0 0 0"/>
      <inertia ixx="0.01" ixy="0" ixz="0" iyy="0.01" iyz="0" izz="0.01"/>
    </inertial>
    <collision>
      <origin rpy="0 0 0" xyz="-0.02 0.0 0.01"/>
      <geometry>
        <sphere radius="0"/>
      </geometry>
    </collision>
  </link>
  <joint name="right_f2_2_accel_dummy1" type="fixed">
    <parent link="right_f2_2"/>
    <child link="right_f2_2_accel_dummy1"/>
    <origin rpy="-1.57079632679 0 0" xyz="0.04 0 0"/>
  </joint>
  <link name="right_f2_2_accel_dummy2">
    <origin rpy="0 0 0" xyz="0 0 0"/>
    <inertial>
      <mass value="0.001"/>
      <origin xyz="0 0 0"/>
      <inertia ixx="0.01" ixy="0" ixz="0" iyy="0.01" iyz="0" izz="0.01"/>
    </inertial>
    <collision>
      <origin rpy="0 0 0" xyz="0.0 0.0 -0.01"/>
      <geometry>
        <sphere radius="0"/>
      </geometry>
    </collision>
  </link>
  <joint name="right_f2_2_accel_dummy2" type="fixed">
    <parent link="right_f2_2"/>
    <child link="right_f2_2_accel_dummy2"/>
    <origin rpy="-1.57079632679 0 0" xyz="0.04 0 0"/>
  </joint>
  <joint name="right_f2_base" type="fixed">
    <parent link="right_palm"/>
    <child link="right_f2_base"/>
    <origin rpy="0 0 0.3" xyz="0.09 0.06245 0"/>
  </joint>
  <joint name="right_f2_j1" type="revolute">
    <axis xyz="0 0 1"/>
    <parent link="right_f2_0"/>
    <child link="right_f2_1"/>
    <limit effort="1" lower="-1.57079632679" upper="1.57079632679" velocity="1"/>
    <safety_controller k_position="1000.0" k_velocity="1000.0" soft_lower_limit="-11.57079" soft_upper_limit="11.57079"/>
    <dynamics damping="0.2"/>
    <origin rpy="1.57079632679 0 0" xyz="0.028 0 0"/>
  </joint>
  <joint name="right_f2_j2" type="revolute">
    <axis xyz="0 0 1"/>
    <parent link="right_f2_1"/>
    <child link="right_f2_2"/>
    <origin rpy="0 0 0" xyz="0.05 0 0"/>
    <safety_controller k_position="1000.0" k_velocity="1000.0" soft_lower_limit="-11.57079" soft_upper_limit="11.57079"/>
    <dynamics damping="0.2"/>
    <limit effort="1" lower="-1.57079632679" upper="1.57079632679" velocity="1"/>
  </joint>
  <joint name="right_f2_fixed_accel" type="fixed">
    <parent link="right_f2_base"/>
    <child link="right_f2_fixed_accel"/>
    <origin rpy="0 0 0" xyz="-0.05 0 0"/>
  </joint>
  <joint name="right_f2_1_accel" type="fixed">
    <parent link="right_f2_1"/>
    <child link="right_f2_1_accel"/>
    <origin rpy="-1.57079632679 0 0" xyz="0.03 0 0"/>
  </joint>
  <joint name="right_f2_2_accel" type="fixed">
    <parent link="right_f2_2"/>
    <child link="right_f2_2_accel"/>
    <origin rpy="-1.57079632679 0 0" xyz="0.04 0 0"/>
  </joint>
  <link name="right_f2_knuckle_dummy_contact">
    <origin rpy="0 0 0" xyz="0 0 0"/>
    <inertial>
      <mass value="0.001"/>
      <origin xyz="0 0 0"/>
      <inertia ixx="0.001" ixy="0" ixz="0" iyy="0.001" iyz="0" izz="0.001"/>
    </inertial>
    <collision>
      <origin rpy="0 0 0" xyz="0.058 0 0.034"/>
      <!--TODO: THERE IS A ERROR HERE: xyz needs to be "0.058 0 0.034" instead of "0.1 0 0.05"-->
      <geometry>
        <sphere radius="0"/>
      </geometry>
    </collision>
  </link>
  <joint name="right_f2_knuckle_dummy_contact" type="fixed">
    <parent link="right_f2_base"/>
    <child link="right_f2_knuckle_dummy_contact"/>
    <origin rpy="0 0 0" xyz="-0.05 0 0"/>
  </joint>
  <transmission name="right_f2_j0" type="pr2_mechanism_model/SimpleTransmission">
    <joint name="right_f2_j0"/>
    <actuator name="right_f2_j0_motor"/>
    <mechanicalReduction>1</mechanicalReduction>
  </transmission>
  <transmission name="right_f2_j1" type="pr2_mechanism_model/SimpleTransmission">
    <joint name="right_f2_j1"/>
    <actuator name="right_f2_j1_motor"/>
    <mechanicalReduction>1</mechanicalReduction>
  </transmission>
  <transmission name="right_f2_j2" type="pr2_mechanism_model/SimpleTransmission">
    <joint name="right_f2_j2"/>
    <actuator name="right_f2_j2_motor"/>
    <mechanicalReduction>1</mechanicalReduction>
  </transmission>
  <link name="right_f3_base">
    <origin rpy="0 0 0" xyz="0 0 0"/>
    <inertial>
      <mass value="0.35"/>
      <origin xyz="0 0 0"/>
      <inertia ixx="0.01" ixy="0" ixz="0" iyy="0.01" iyz="0" izz="0.01"/>
    </inertial>
  </link>
  <link name="right_f3_fixed_accel">
    <origin rpy="0 0 0" xyz="0 0 0"/>
    <inertial>
      <mass value="0.001"/>
      <origin xyz="0 0 0"/>
      <inertia ixx="0.01" ixy="0" ixz="0" iyy="0.01" iyz="0" izz="0.01"/>
    </inertial>
  </link>
  <link name="right_f3_0">
    <origin rpy="0 0 0" xyz="0 0 0"/>
    <inertial>
      <mass value="0.05"/>
      <origin xyz="0 0 0"/>
      <inertia ixx="0.01" ixy="0" ixz="0" iyy="0.01" iyz="0" izz="0.01"/>
    </inertial>
    <!-- begin simple shape approximation of f0 -->
    <!-- <collision group="default">
        <origin xyz="0 0 0.003" rpy="0 0 0"/>
        <geometry>
          <cylinder radius="0.015" length="0.023" />
        </geometry>
      </collision> -->
    <!-- <collision group="other">
        <origin xyz="0.011 0 0.003" rpy="${M_pi/2} 0 0"/>
        <geometry>
          <cylinder radius="0.01" length="0.023" />
        </geometry>
      </collision> -->
    <!--   end simple shape approximation of f0 -->
    <!-- begin visual shape approximation of f0 -->
    <visual>
      <origin rpy="0 0 0" xyz="0 0 0.003"/>
      <geometry>
        <cylinder length="0.023" radius="0.015"/>
      </geometry>
      <material name="right_sandia_hand_skin_suntan">
        <color rgba="0.7 0.4 0.2 1.0"/>
      </material>
    </visual>
    <visual>
      <origin rpy="1.57079632679 0 0" xyz="0.011 0 0.003"/>
      <geometry>
        <cylinder length="0.023" radius="0.01"/>
      </geometry>
      <material name="right_sandia_hand_skin_suntan">
        <color rgba="0.7 0.4 0.2 1.0"/>
      </material>
    </visual>
    <!--   end visual shape approximation of f0 -->
    <!-- begin collision mesh of f0 ->
      <collision group="default">
        <origin xyz="0 0 0" rpy="0 0 0"/>
        <geometry>
          <mesh filename="package://sandia_hand_description/meshes/f0.stl"/>
        </geometry>
      </collision>
      <!-   end collision mesh of f0 -->
    <!-- begin visual mesh of f0 ->
      <visual>
        <origin xyz="0 0 0" rpy="0 0 0"/>
        <geometry>
          <mesh filename="package://sandia_hand_description/meshes/f0.stl"/>
        </geometry>
        <material name="${side}_sandia_hand_skin_suntan">
          <color rgba="0.7 0.4 0.2 1.0"/>
        </material>
      </visual>
      <!-   end visual mesh of f0 -->
  </link>
  <link name="right_f3_1">
    <origin rpy="0 0 0" xyz="0 0 0"/>
    <inertial>
      <mass value="0.05"/>
      <origin xyz="0 0 0"/>
      <inertia ixx="0.01" ixy="0" ixz="0" iyy="0.01" iyz="0" izz="0.01"/>
    </inertial>
    <!-- begin simple shape approximation of f1 -->
    <!-- <collision group="default">
        <origin xyz="0.024 0 0" rpy="0 ${M_pi/2} 0"/>
        <geometry>
          <cylinder radius="0.01" length="0.067" />
        </geometry>
      </collision> -->
    <!--   end simple shape approximation of f1 -->
    <!-- begin visual shape approximation of f1 -->
    <visual>
      <origin rpy="0 1.57079632679 0" xyz="0.024 0 0"/>
      <geometry>
        <cylinder length="0.067" radius="0.01"/>
      </geometry>
      <material name="right_sandia_hand_skin">
        <color rgba="0.835 0.655 0.345 1.0"/>
      </material>
    </visual>
    <!--   end visual shape approximation of f1 -->
    <!-- begin collision mesh of f1 ->
      <collision group="default">
        <origin xyz="0 0 0" rpy="0 0 0"/>
        <geometry>
          <mesh filename="package://sandia_hand_description/meshes/f1.stl"/>
        </geometry>
      </collision>
      <!-   end collision mesh of f1 -->
    <!-- begin visual mesh of f1 ->
      <visual>
        <origin xyz="0 0 0" rpy="0 0 0"/>
        <geometry>
          <mesh filename="package://sandia_hand_description/meshes/f1.stl"/>
        </geometry>
        <material name="${side}_sandia_hand_skin">
          <color rgba="0.835 0.655 0.345 1.0"/>
        </material>
      </visual>
      <!-   end visual mesh of f1 -->
  </link>
  <link name="right_f3_1_accel">
    <origin rpy="0 0 0" xyz="0 0 0"/>
    <inertial>
      <mass value="0.001"/>
      <origin xyz="0 0 0"/>
      <inertia ixx="0.01" ixy="0" ixz="0" iyy="0.01" iyz="0" izz="0.01"/>
    </inertial>
  </link>
  <link name="right_f3_2">
    <origin rpy="0 0 0" xyz="0 0 0"/>
    <inertial>
      <mass value="0.05"/>
      <origin xyz="0 0 0"/>
      <inertia ixx="0.01" ixy="0" ixz="0" iyy="0.01" iyz="0" izz="0.01"/>
    </inertial>
    <!-- begin simple shape approximation of f2 -->
    <!-- <collision group="default">
        <origin xyz="0.024 0 0" rpy="0 ${M_pi/2} 0"/>
        <geometry>
          <cylinder radius="0.009" length="0.057" />
        </geometry>
      </collision> -->
    <!-- <collision group="other">
        <origin xyz="0.052 0 0" rpy="0 0 0"/>
        <geometry>
          <sphere radius="0.009" />
        </geometry>
      </collision> -->
    <!--   end simple shape approximation of f2 -->
    <!-- begin visual shape approximation of f2 -->
    <visual>
      <origin rpy="0 1.57079632679 0" xyz="0.024 0 0"/>
      <geometry>
        <cylinder length="0.057" radius="0.009"/>
      </geometry>
      <material name="right_sandia_hand_skin_suntan">
        <color rgba="0.8 0.6 0.3 1.0"/>
      </material>
    </visual>
    <visual>
      <origin rpy="0 0 0" xyz="0.052 0 0"/>
      <geometry>
        <sphere radius="0.009"/>
      </geometry>
      <material name="right_sandia_hand_skin_suntan">
        <color rgba="0.8 0.6 0.3 1.0"/>
      </material>
    </visual>
    <!-- begin collision mesh of f2    ->
      <collision group="default">
        <origin xyz="0 0 0" rpy="0 0 0"/>
        <geometry>
          <mesh filename="package://sandia_hand_description/meshes/f2.stl"/>
        </geometry>
      </collision>
      <!-   end collision mesh of f2 -->
    <!-- begin visual mesh of f2    ->
      <visual>
        <origin xyz="0 0 0" rpy="0 0 0"/>
        <geometry>
          <mesh filename="package://sandia_hand_description/meshes/f2.stl"/>
        </geometry>
        <material name="${side}_sandia_hand_skin_suntan">
          <color rgba="0.8 0.6 0.3 1.0"/>
        </material>
      </visual>
      <!-   end visual mesh of f2 -->
  </link>
  <link name="right_f3_2_accel">
    <origin rpy="0 0 0" xyz="0 0 0"/>
    <inertial>
      <mass value="0.001"/>
      <origin xyz="0 0 0"/>
      <inertia ixx="0.01" ixy="0" ixz="0" iyy="0.01" iyz="0" izz="0.01"/>
    </inertial>
    <!-- ############ MIT ADDITION ############ -->
    <collision>
      <origin rpy="0 0 0" xyz="0 0 0.01"/>
      <geometry>
        <sphere radius="0"/>
      </geometry>
    </collision>
    <!-- ############    END     ############ -->
  </link>
  <link name="right_f3_2_accel_dummy1">
    <origin rpy="0 0 0" xyz="0 0 0"/>
    <inertial>
      <mass value="0.001"/>
      <origin xyz="0 0 0"/>
      <inertia ixx="0.01" ixy="0" ixz="0" iyy="0.01" iyz="0" izz="0.01"/>
    </inertial>
    <collision>
      <origin rpy="0 0 0" xyz="-0.02 0.0 0.01"/>
      <geometry>
        <sphere radius="0"/>
      </geometry>
    </collision>
  </link>
  <joint name="right_f3_2_accel_dummy1" type="fixed">
    <parent link="right_f3_2"/>
    <child link="right_f3_2_accel_dummy1"/>
    <origin rpy="-1.57079632679 0 0" xyz="0.04 0 0"/>
  </joint>
  <link name="right_f3_2_accel_dummy2">
    <origin rpy="0 0 0" xyz="0 0 0"/>
    <inertial>
      <mass value="0.001"/>
      <origin xyz="0 0 0"/>
      <inertia ixx="0.01" ixy="0" ixz="0" iyy="0.01" iyz="0" izz="0.01"/>
    </inertial>
    <collision>
      <origin rpy="0 0 0" xyz="0.0 0.0 -0.01"/>
      <geometry>
        <sphere radius="0"/>
      </geometry>
    </collision>
  </link>
  <joint name="right_f3_2_accel_dummy2" type="fixed">
    <parent link="right_f3_2"/>
    <child link="right_f3_2_accel_dummy2"/>
    <origin rpy="-1.57079632679 0 0" xyz="0.04 0 0"/>
  </joint>
  <joint name="right_f3_base" type="fixed">
    <parent link="right_palm"/>
    <child link="right_f3_base"/>
    <origin rpy="0 -1.57079632679 -2.3562" xyz="0.03995 -0.04383 0.014"/>
  </joint>
  <joint name="right_f3_j0" type="revolute">
    <axis xyz="0 0 1"/>
    <parent link="right_f3_base"/>
    <child link="right_f3_0"/>
    <limit effort="1" lower="-0.785398163397" upper="0.785398163397" velocity="1"/>
    <safety_controller k_position="1000.0" k_velocity="1000.0" soft_lower_limit="-11.57079" soft_upper_limit="11.57079"/>
    <dynamics damping="0.2"/>
    <origin rpy="0 0 0" xyz="0 0 0"/>
  </joint>
  <joint name="right_f3_j1" type="revolute">
    <axis xyz="0 0 1"/>
    <parent link="right_f3_0"/>
    <child link="right_f3_1"/>
    <limit effort="1" lower="-1.57079632679" upper="1.57079632679" velocity="1"/>
    <safety_controller k_position="1000.0" k_velocity="1000.0" soft_lower_limit="-11.57079" soft_upper_limit="11.57079"/>
    <dynamics damping="0.2"/>
    <origin rpy="1.57079632679 0 0" xyz="0.028 0 0"/>
  </joint>
  <joint name="right_f3_j2" type="revolute">
    <axis xyz="0 0 1"/>
    <parent link="right_f3_1"/>
    <child link="right_f3_2"/>
    <origin rpy="0 0 0" xyz="0.05 0 0"/>
    <safety_controller k_position="1000.0" k_velocity="1000.0" soft_lower_limit="-11.57079" soft_upper_limit="11.57079"/>
    <dynamics damping="0.2"/>
    <limit effort="1" lower="-1.57079632679" upper="1.57079632679" velocity="1"/>
  </joint>
  <joint name="right_f3_fixed_accel" type="fixed">
    <parent link="right_f3_base"/>
    <child link="right_f3_fixed_accel"/>
    <origin rpy="0 0 0" xyz="-0.05 0 0"/>
  </joint>
  <joint name="right_f3_1_accel" type="fixed">
    <parent link="right_f3_1"/>
    <child link="right_f3_1_accel"/>
    <origin rpy="-1.57079632679 0 0" xyz="0.03 0 0"/>
  </joint>
  <joint name="right_f3_2_accel" type="fixed">
    <parent link="right_f3_2"/>
    <child link="right_f3_2_accel"/>
    <origin rpy="-1.57079632679 0 0" xyz="0.04 0 0"/>
  </joint>
  <transmission name="right_f3_j0" type="pr2_mechanism_model/SimpleTransmission">
    <joint name="right_f3_j0"/>
    <actuator name="right_f3_j0_motor"/>
    <mechanicalReduction>1</mechanicalReduction>
  </transmission>
  <transmission name="right_f3_j1" type="pr2_mechanism_model/SimpleTransmission">
    <joint name="right_f3_j1"/>
    <actuator name="right_f3_j1_motor"/>
    <mechanicalReduction>1</mechanicalReduction>
  </transmission>
  <transmission name="right_f3_j2" type="pr2_mechanism_model/SimpleTransmission">
    <joint name="right_f3_j2"/>
    <actuator name="right_f3_j2_motor"/>
    <mechanicalReduction>1</mechanicalReduction>
  </transmission>
  <joint name="right_f0_j0" type="revolute">
    <axis xyz="0 0 1"/>
    <parent link="right_f0_base"/>
    <child link="right_f0_0"/>
    <!--    <limit effort="1" lower="-1.57079" upper="1.57079" velocity="1"/>-->
    <limit effort="1" lower="-1.57079632679" upper="0" velocity="1"/>
    <safety_controller k_position="1000.0" k_velocity="1000.0" soft_lower_limit="-11.57079" soft_upper_limit="11.57079"/>
    <dynamics damping="0.2"/>
    <origin rpy="0 0 0" xyz="0 0 0"/>
  </joint>
  <joint name="right_f1_j0" type="revolute">
    <axis xyz="0 0 1"/>
    <parent link="right_f1_base"/>
    <child link="right_f1_0"/>
    <!--    <limit effort="1" lower="-1.57079" upper="1.57079" velocity="1"/>-->
    <limit effort="1" lower="-0.09" upper="0.09" velocity="1"/>
    <safety_controller k_position="1000.0" k_velocity="1000.0" soft_lower_limit="-11.57079" soft_upper_limit="11.57079"/>
    <dynamics damping="0.2"/>
    <origin rpy="0 0 0" xyz="0 0 0"/>
  </joint>
  <joint name="right_f2_j0" type="revolute">
    <axis xyz="0 0 1"/>
    <parent link="right_f2_base"/>
    <child link="right_f2_0"/>
    <!--    <limit effort="1" lower="-1.57079" upper="1.57079" velocity="1"/>-->
    <limit effort="1" lower="0" upper="1.57079632679" velocity="1"/>
    <safety_controller k_position="1000.0" k_velocity="1000.0" soft_lower_limit="-11.57079" soft_upper_limit="11.57079"/>
    <dynamics damping="0.2"/>
    <origin rpy="0 0 0" xyz="0 0 0"/>
  </joint>
</robot>
